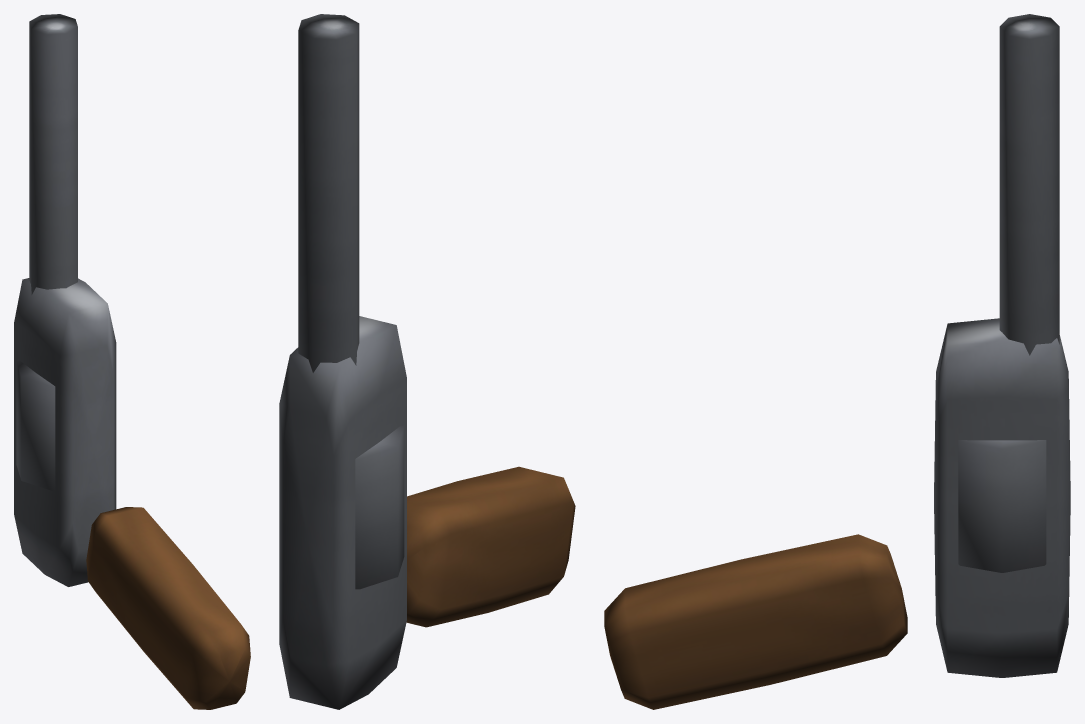
Rendered from revolver.glb.
3 renders of one model, left to right at view 1: azimuth 30°, elevation 25°; view 2: azimuth 150°, elevation 25°; view 3: azimuth 270°, elevation 25°, orthographic. The views are drawn at different scales.
Parts seen in each view (by area): view 1: revolver; view 2: revolver; view 3: revolver.
Part boxes in pixels (box(x1,y1,x2,y2)): revolver: box(14, 14, 250, 709); revolver: box(279, 14, 575, 709); revolver: box(604, 14, 1070, 709).
Size of the model in its own units: 0.044 by 0.2712 by 0.1704.
Materials: 1 (1 with a texture image).
